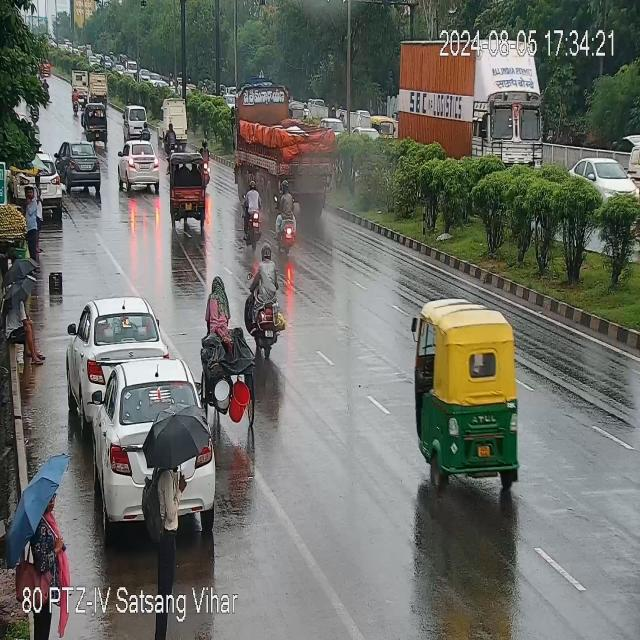2-wheelers: (248, 242, 282, 359), (277, 180, 298, 254), (244, 172, 262, 245), (199, 133, 211, 187), (165, 120, 178, 160), (70, 84, 85, 116)
auto: (411, 294, 523, 503), (168, 157, 210, 221), (85, 109, 110, 143)
car: (92, 363, 215, 538), (68, 295, 166, 400), (12, 151, 62, 215), (572, 151, 640, 196), (118, 142, 166, 195), (56, 140, 104, 192), (124, 105, 150, 133)
pedestrian: (137, 414, 208, 588), (2, 452, 75, 583), (3, 259, 39, 372), (24, 183, 40, 262)
truck: (387, 32, 541, 136), (236, 80, 334, 211), (156, 96, 191, 145), (70, 69, 108, 99)
